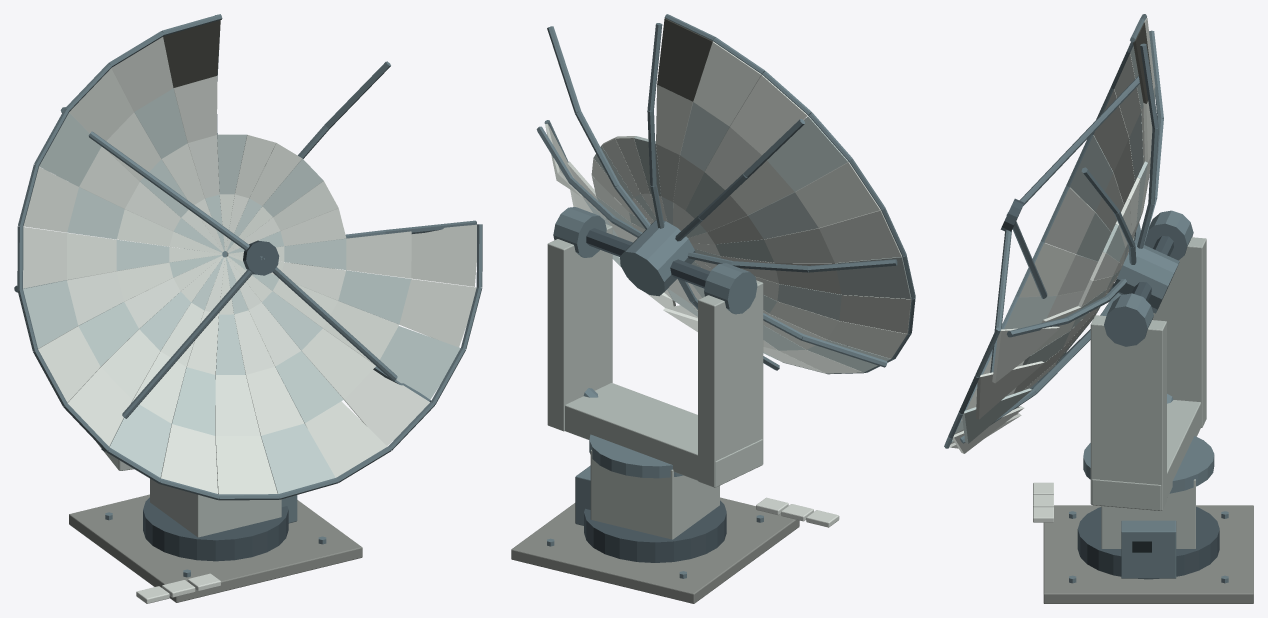
File: skyward_low_d2.glb
3 views of the same model, side by side, from view 1: azimuth 30°, elevation 25°; view 2: azimuth 150°, elevation 25°; view 3: azimuth 270°, elevation 25° (orthographic). The views are drawn at different scales.
Visible parts, largest first — view 1: Geometry_ELEVATION.002_Reflector / warm ceramic, Geometry_ELEVATION.002_Reflector / alternate panel, Geometry_ELEVATION.002_Structural frame / blue steel, Concrete octagonal pad.002, Foundation bearing.002, Pedestal.002, Reflector panel.256, Geometry_ROOT.002_Reflector / warm ceramic, Geometry_ELEVATION.002_Edge metal / graphite; view 2: Geometry_ELEVATION.002_Reflector / warm ceramic, Geometry_AZIMUTH.002_Ceramic armor / limestone, Geometry_ELEVATION.002_Reflector / alternate panel, Geometry_ELEVATION.002_Structural frame / blue steel, Concrete octagonal pad.002, Pedestal.002, Geometry_AZIMUTH.002_Structural frame / blue steel, Foundation bearing.002, Reflector panel.256, Geometry_ELEVATION.002_Edge metal / graphite, Geometry_ROOT.002_Reflector / warm ceramic, Geometry_ROOT.002_Structural frame / blue steel; view 3: Geometry_AZIMUTH.002_Ceramic armor / limestone, Geometry_ELEVATION.002_Reflector / warm ceramic, Geometry_ELEVATION.002_Structural frame / blue steel, Concrete octagonal pad.002, Geometry_ELEVATION.002_Reflector / alternate panel, Geometry_AZIMUTH.002_Structural frame / blue steel, Foundation bearing.002, Geometry_ROOT.002_Structural frame / blue steel, Pedestal.002, Geometry_ELEVATION.002_Edge metal / graphite, Geometry_ROOT.002_Reflector / warm ceramic, Reflector panel.256.
Boxes of the visible parts, x1,y1,x2,y2 form: Geometry_ELEVATION.002_Reflector / warm ceramic: (23, 37, 476, 494); Geometry_ELEVATION.002_Reflector / alternate panel: (23, 88, 460, 493); Geometry_ELEVATION.002_Structural frame / blue steel: (14, 14, 482, 500); Concrete octagonal pad.002: (69, 494, 362, 602); Foundation bearing.002: (143, 497, 288, 561); Pedestal.002: (150, 478, 281, 537); Reflector panel.256: (163, 20, 220, 87); Geometry_ROOT.002_Reflector / warm ceramic: (136, 573, 220, 603); Geometry_ELEVATION.002_Edge metal / graphite: (184, 240, 279, 275); Geometry_ELEVATION.002_Reflector / warm ceramic: (545, 41, 911, 373); Geometry_AZIMUTH.002_Ceramic armor / limestone: (547, 224, 763, 487); Geometry_ELEVATION.002_Reflector / alternate panel: (584, 102, 911, 372); Geometry_ELEVATION.002_Structural frame / blue steel: (536, 14, 915, 374); Concrete octagonal pad.002: (511, 497, 799, 603); Pedestal.002: (590, 449, 719, 539); Geometry_AZIMUTH.002_Structural frame / blue steel: (553, 207, 757, 478); Foundation bearing.002: (584, 500, 726, 562); Reflector panel.256: (657, 18, 712, 101); Geometry_ELEVATION.002_Edge metal / graphite: (586, 228, 710, 288); Geometry_ROOT.002_Reflector / warm ceramic: (756, 497, 839, 527); Geometry_ROOT.002_Structural frame / blue steel: (547, 465, 763, 578); Geometry_AZIMUTH.002_Ceramic armor / limestone: (1090, 236, 1206, 510); Geometry_ELEVATION.002_Reflector / warm ceramic: (949, 18, 1155, 453); Geometry_ELEVATION.002_Structural frame / blue steel: (944, 14, 1179, 448); Concrete octagonal pad.002: (1043, 505, 1253, 603); Geometry_ELEVATION.002_Reflector / alternate panel: (952, 46, 1155, 443); Geometry_AZIMUTH.002_Structural frame / blue steel: (1083, 210, 1214, 493); Foundation bearing.002: (1077, 507, 1219, 579); Geometry_ROOT.002_Structural frame / blue steel: (1069, 511, 1228, 583); Pedestal.002: (1101, 479, 1195, 548); Geometry_ELEVATION.002_Edge metal / graphite: (1000, 198, 1173, 301); Geometry_ROOT.002_Reflector / warm ceramic: (1033, 482, 1053, 522); Reflector panel.256: (1133, 22, 1152, 103).
Size of the model in its own units: 17.91 by 21.86 by 11.79.
